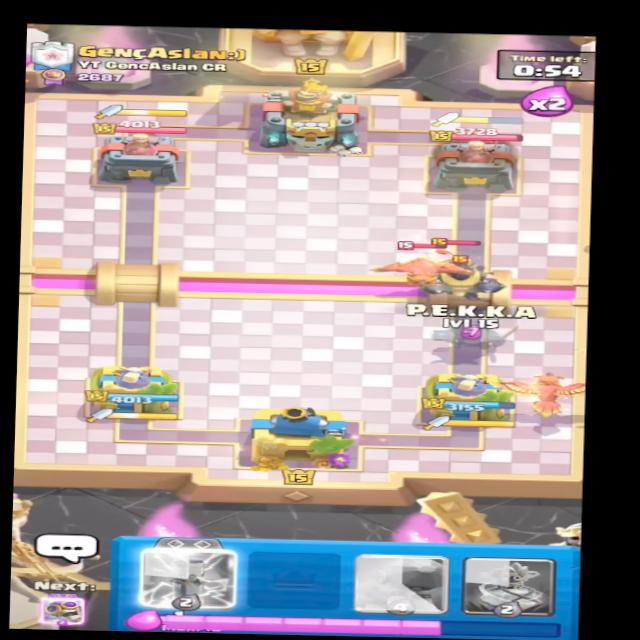mega-knight: (405, 255, 507, 301)
phoenix: (359, 239, 489, 293)
